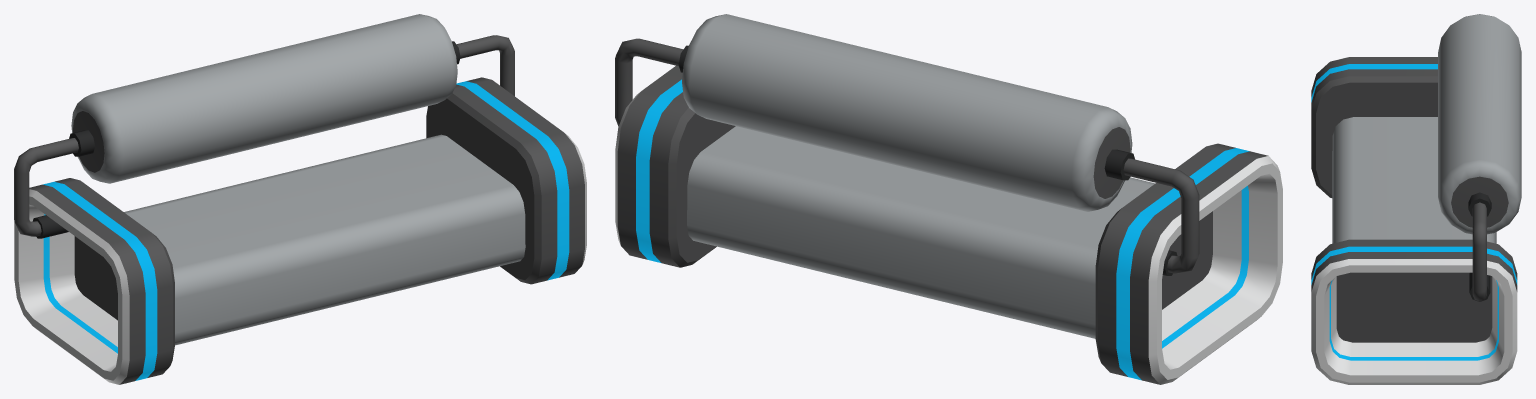
The model's file is Sofa_006.glb.
3 views of the same model, side by side, from view 1: azimuth 30°, elevation 25°; view 2: azimuth 150°, elevation 25°; view 3: azimuth 270°, elevation 25° (orthographic). The views are drawn at different scales.
Parts seen in each view (by area): view 1: Sofa_006; view 2: Sofa_006; view 3: Sofa_006.
Part boxes in pixels (x1,y1,x2,y2): Sofa_006: (14,14,586,384); Sofa_006: (615,14,1282,384); Sofa_006: (1311,14,1521,384).
Bounding box in the file's own units: 2.24 × 0.9289 × 0.8985.
Materials: 2 (2 with a texture image).
